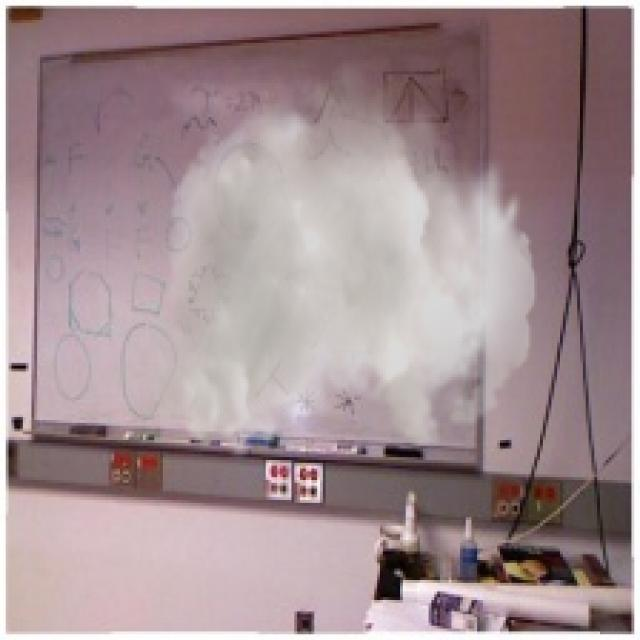Smoke: (152, 51, 537, 460)
